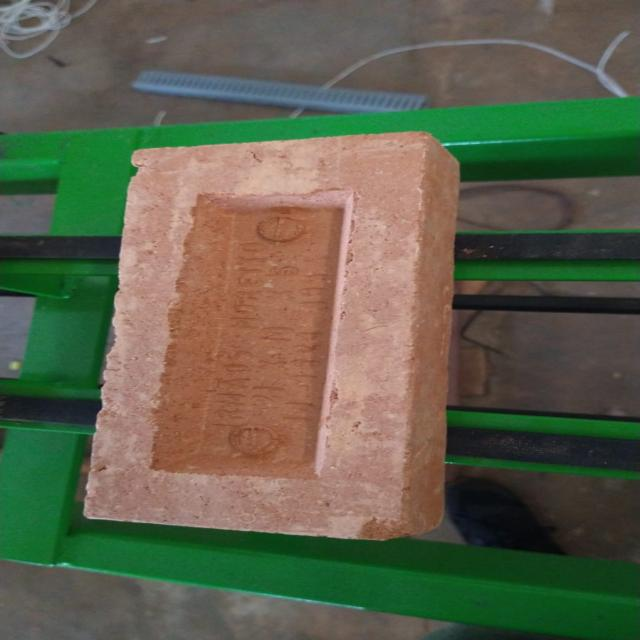bricks: (82, 129, 461, 538)
